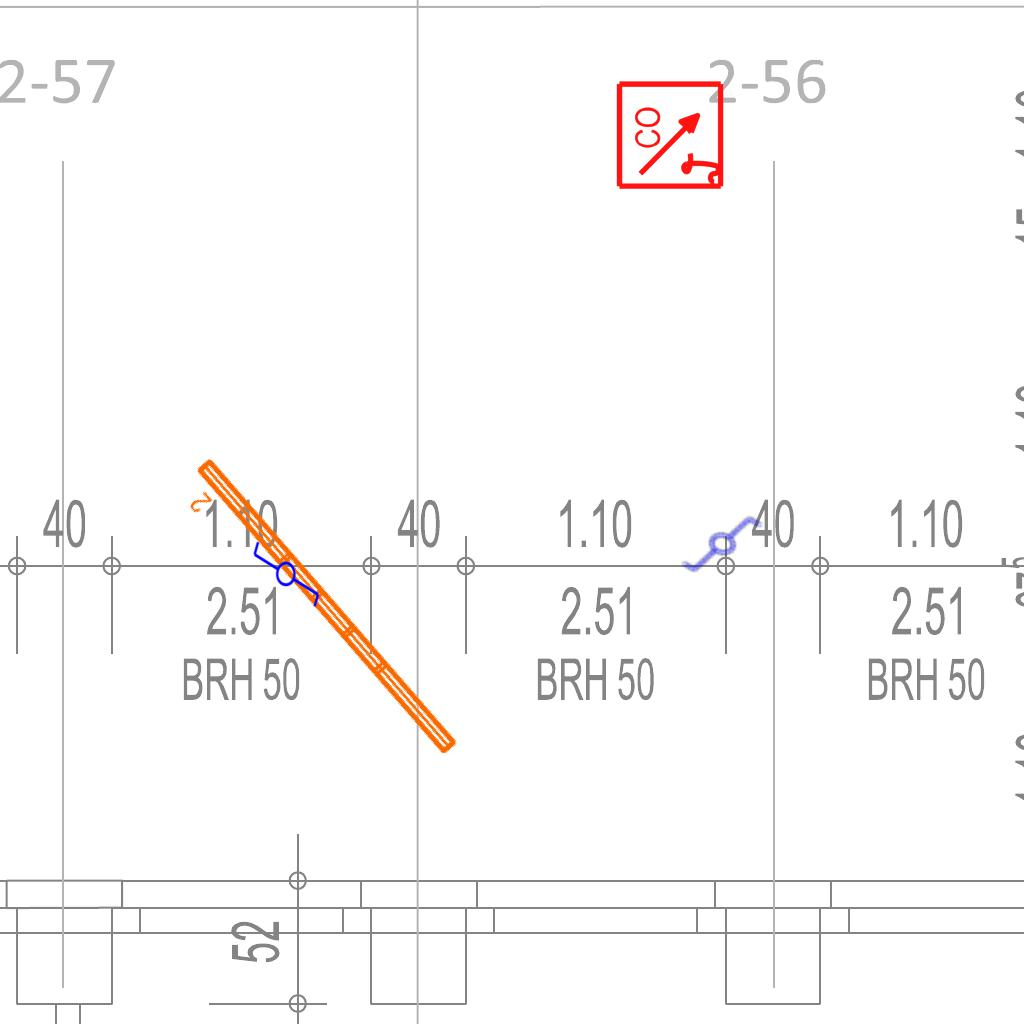Ambulanz_Pendelleuchte_LED: (169, 450, 466, 780)
ROA_Rauchmelder_optisch_mit_Signalgeber_(Sockelsirene): (615, 78, 728, 191)
Wechselschalter: (679, 501, 773, 591), (251, 531, 323, 609)
